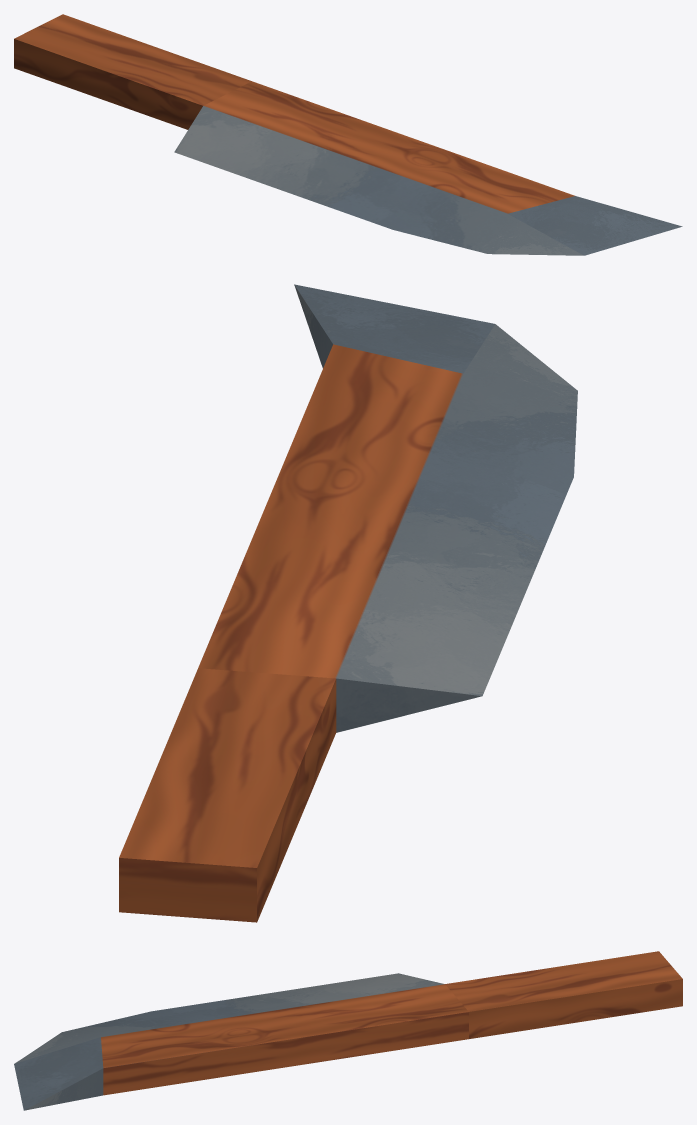
Rendered from SM_Knife.fbx.
The picture shows the model from 3 angles, top to bottom: view 1: azimuth 30°, elevation 25°; view 2: azimuth 150°, elevation 25°; view 3: azimuth 270°, elevation 25°; orthographic projection. The views are drawn at different scales.
Visible parts, largest first — view 1: SM_Knife; view 2: SM_Knife; view 3: SM_Knife.
Boxes of the visible parts, x1,y1,x2,y2 form: SM_Knife: (14,14,682,255); SM_Knife: (119,284,577,922); SM_Knife: (14,951,682,1110).
Size of the model in its own units: 17.24 by 1.5 by 33.39.
